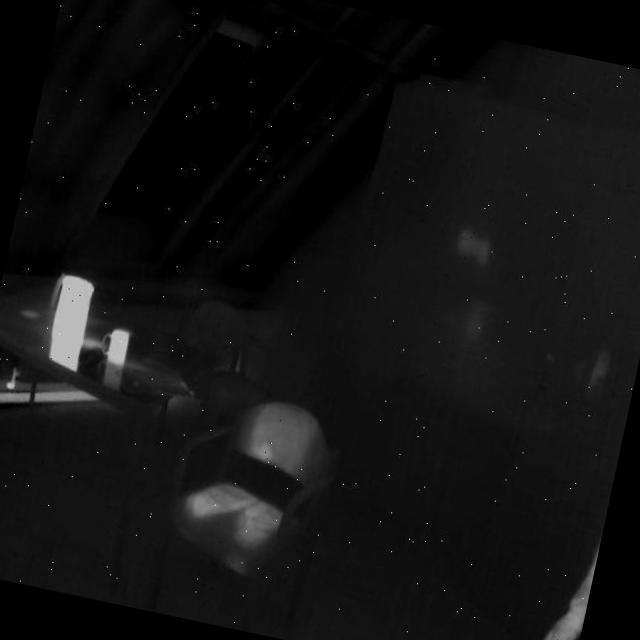person: (507, 275, 640, 640)
